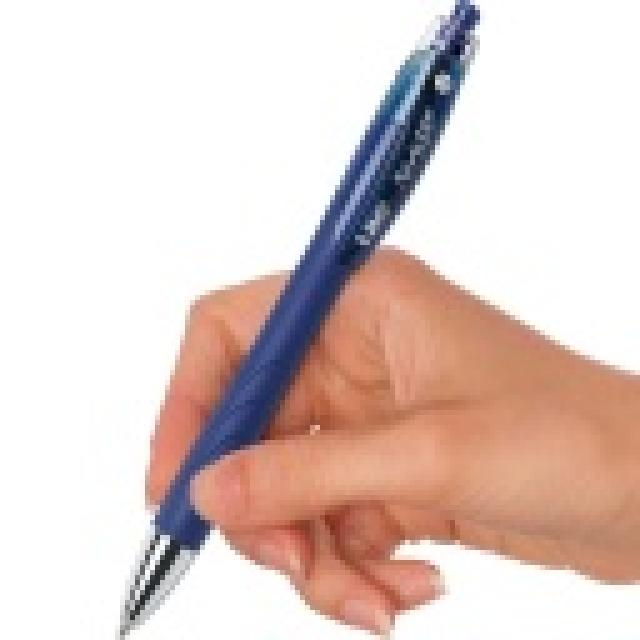pen: (112, 5, 496, 635)
